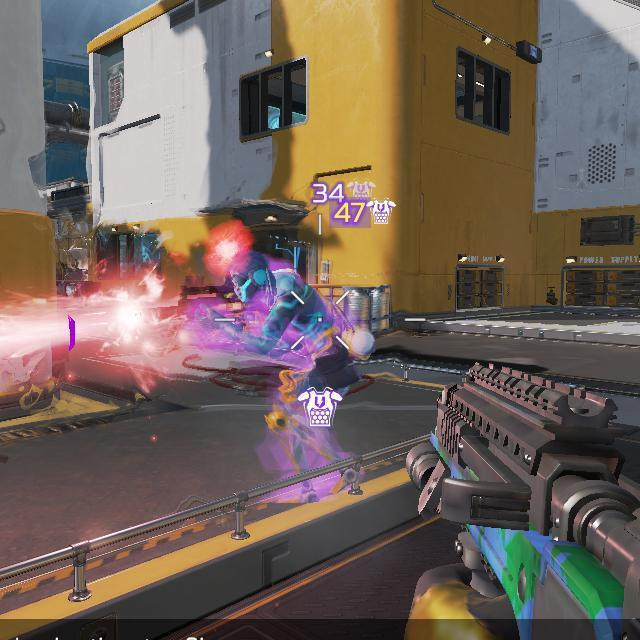avatar: (229, 249, 358, 505)
object: (201, 219, 253, 276)
